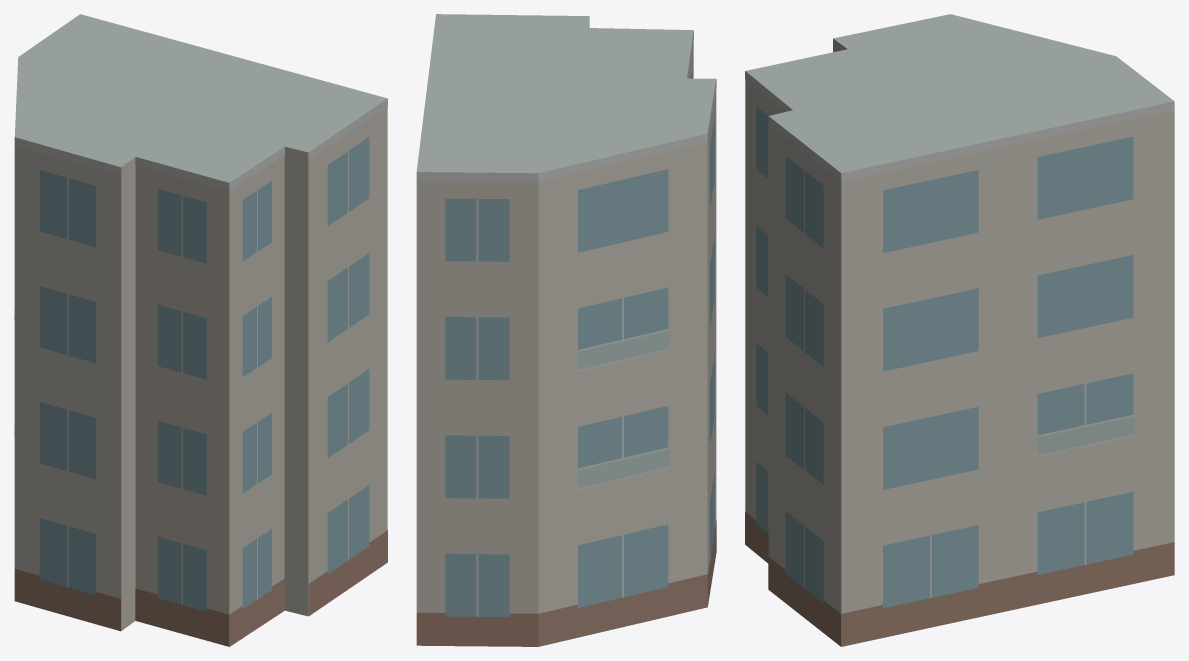
Rendered from survey-upis-32981017.glb.
3 views of the same model, side by side, from view 1: azimuth 30°, elevation 25°; view 2: azimuth 150°, elevation 25°; view 3: azimuth 270°, elevation 25° (orthographic). The views are drawn at different scales.
Parts seen in each view (by area): view 1: survey-upis-32981017.tmp; view 2: survey-upis-32981017.tmp; view 3: survey-upis-32981017.tmp.
Part boxes in pixels (x1=…): survey-upis-32981017.tmp: x1=14, y1=14, x2=387, y2=646; survey-upis-32981017.tmp: x1=416, y1=14, x2=716, y2=646; survey-upis-32981017.tmp: x1=745, y1=14, x2=1174, y2=646.
Bounding box in the file's own units: 9.74 × 13.5 × 11.1.
